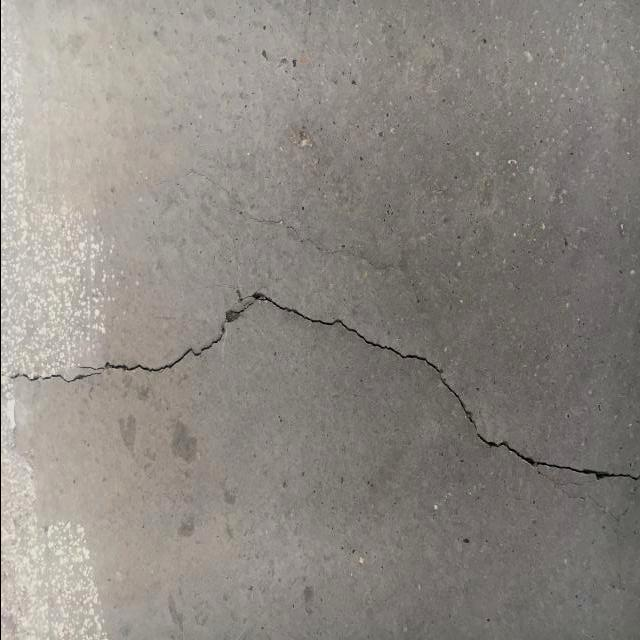SurfaceCrack: (1, 270, 640, 509)
